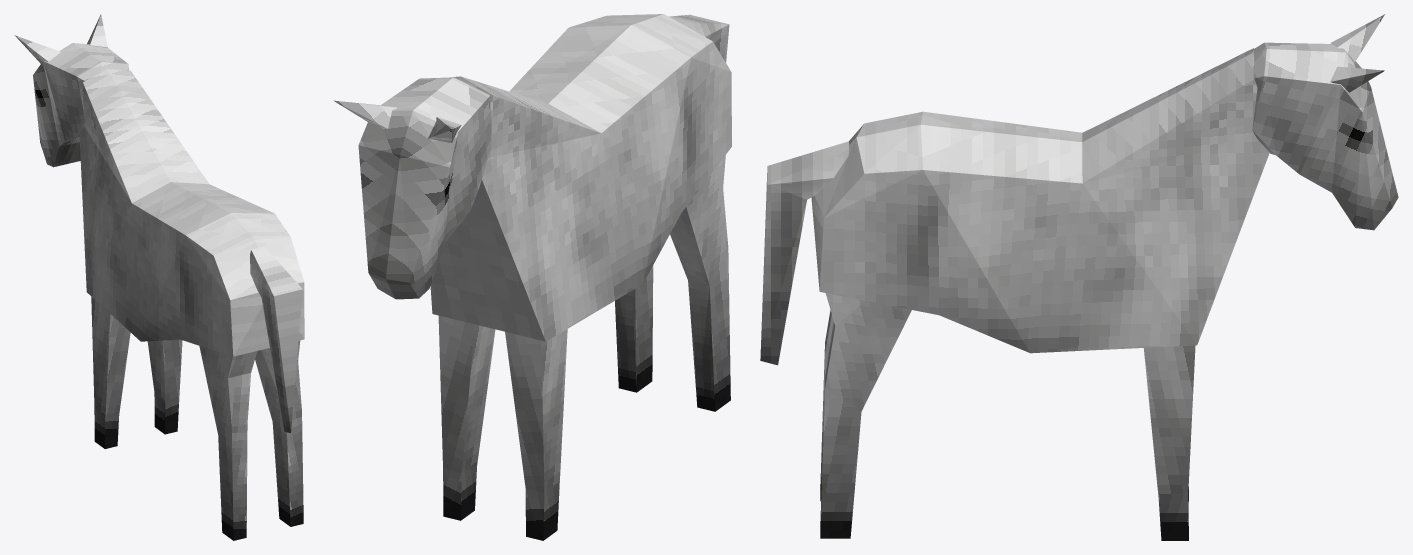
Rendered from Horse_Horse_White.glb.
3 renders of one model, left to right at view 1: azimuth 30°, elevation 25°; view 2: azimuth 150°, elevation 25°; view 3: azimuth 270°, elevation 25°, orthographic. The views are drawn at different scales.
Parts seen in each view (by area): view 1: Body, Head, Leg3, Leg4, Leg1, Leg2; view 2: Body, Head, Leg3, Leg1, Leg2, Leg4; view 3: Body, Head, Leg4, Leg2.
Boxes of the visible parts, x1,y1,x2,y2 form: Body: (79,69,304,432); Head: (14,14,128,167); Leg3: (199,346,257,540); Leg4: (255,340,303,526); Leg1: (91,297,130,448); Leg2: (147,339,182,434); Body: (430,14,731,341); Head: (333,77,491,299); Leg3: (670,155,730,411); Leg1: (505,329,567,540); Leg2: (438,315,495,520); Leg4: (615,265,653,392); Body: (760,48,1269,365); Head: (1252,14,1398,230); Leg4: (820,293,911,538); Leg2: (1143,345,1195,540).
Size of the model in its own units: 0.4986 by 1.71 by 2.08.
1 material, 1 textured.
